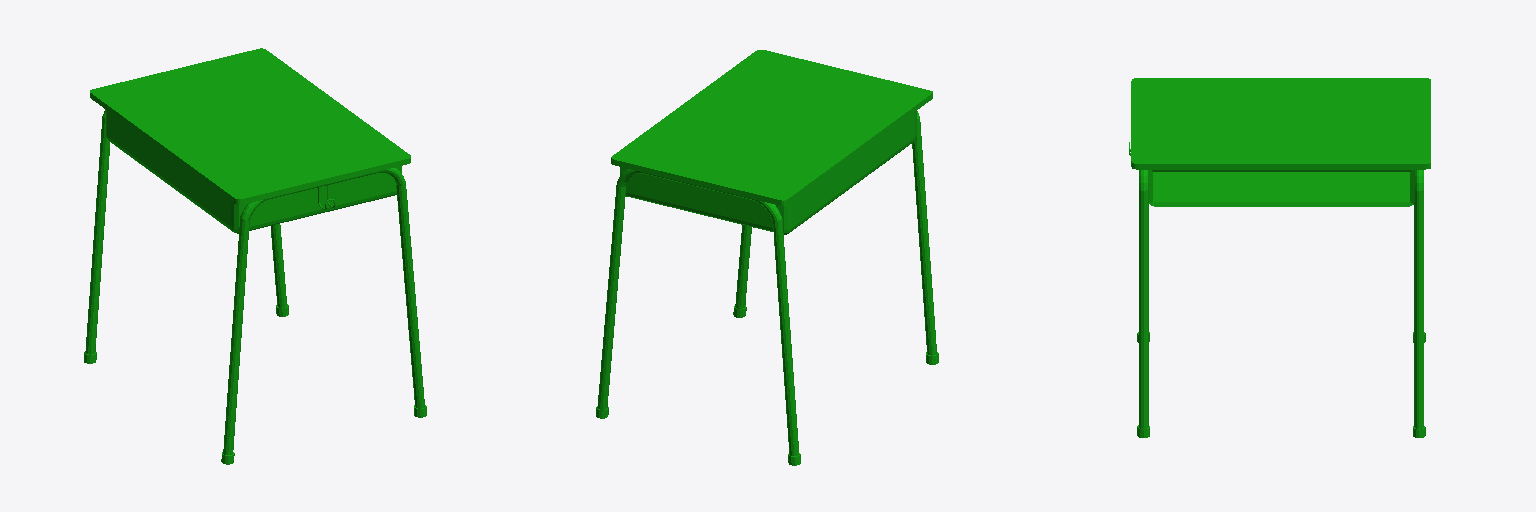
File: B_Daily_R_Vr_N_Desk_0001.obj
3 views of the same model, side by side, from view 1: azimuth 30°, elevation 25°; view 2: azimuth 150°, elevation 25°; view 3: azimuth 270°, elevation 25° (orthographic).
Visible parts, largest first — view 1: Object023, Object020, Object022; view 2: Object023, Object020, Object022; view 3: Object023, Object022, Object020.
Part boxes in pixels (bbox=[...]): Object023: bbox=[84, 48, 426, 464]; Object020: bbox=[85, 109, 424, 454]; Object022: bbox=[106, 110, 401, 233]; Object023: bbox=[596, 50, 938, 465]; Object020: bbox=[597, 111, 936, 455]; Object022: bbox=[620, 111, 916, 234]; Object023: bbox=[1131, 78, 1430, 437]; Object022: bbox=[1149, 170, 1414, 206]; Object020: bbox=[1139, 170, 1423, 428].
Bounding box in the file's own units: 23.78 × 29.57 × 30.59.